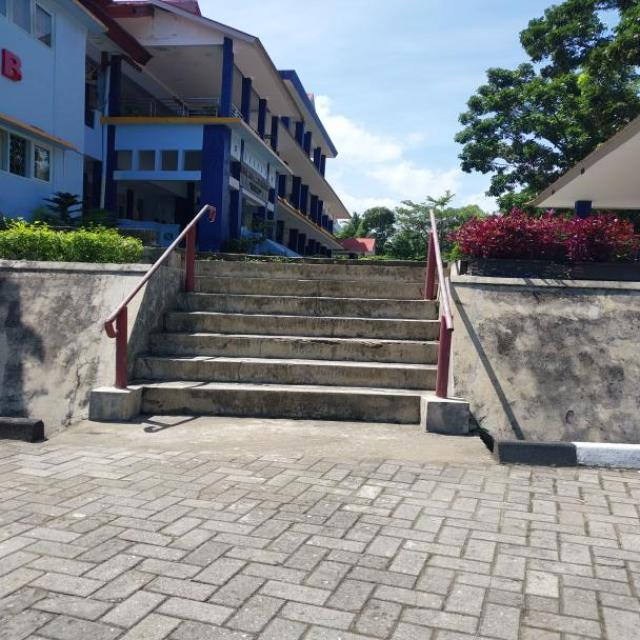stairs ahead at: (138, 275, 435, 416)
